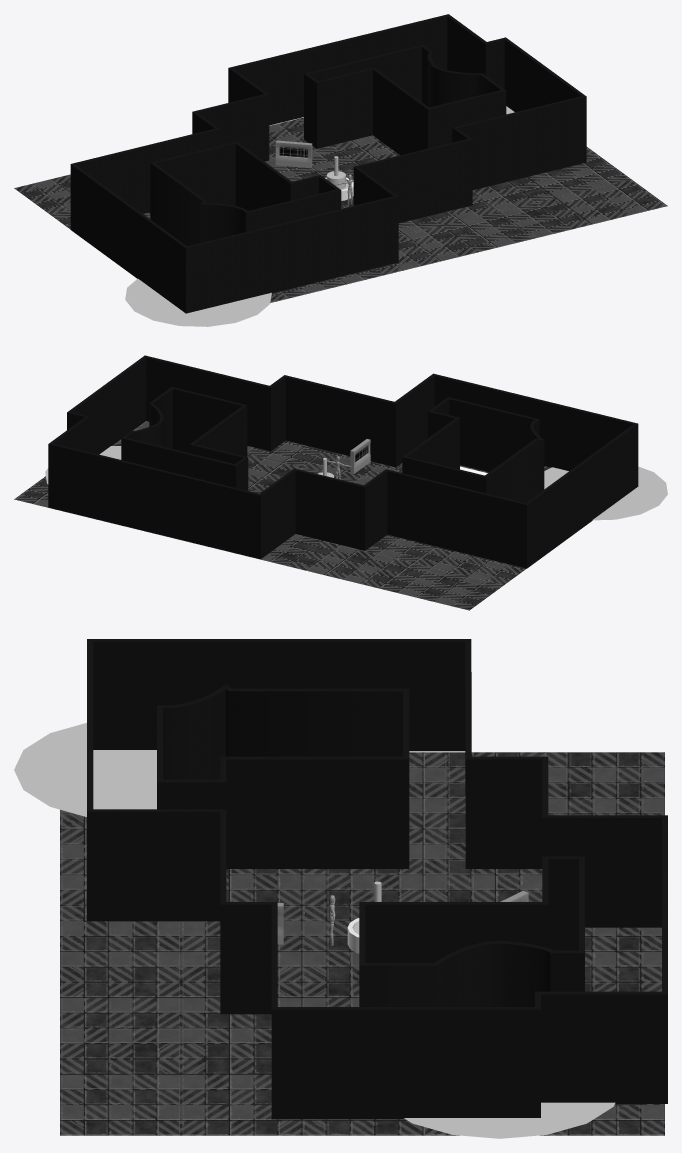
The model's file is Arena3.fbx.
3 views of the same model, one above another, from view 1: azimuth 30°, elevation 25°; view 2: azimuth 150°, elevation 25°; view 3: azimuth 270°, elevation 25° (orthographic). The views are drawn at different scales.
Visible parts, largest first — view 1: Sweep, Плоскость, Диск, Куб_1; view 2: Sweep, Плоскость, Диск, Куб; view 3: Sweep, Плоскость, Диск, Диск_1.
Part boxes in pixels (box(x1,y1,x2,y2)): Sweep: box(70, 14, 586, 313); Плоскость: box(14, 117, 667, 302); Диск: box(125, 278, 271, 326); Куб_1: box(275, 140, 312, 168); Sweep: box(48, 355, 638, 568); Плоскость: box(14, 421, 550, 610); Диск: box(544, 466, 667, 520); Куб: box(350, 439, 370, 473); Sweep: box(87, 639, 667, 1119); Плоскость: box(60, 752, 664, 1135); Диск: box(14, 723, 156, 816); Диск_1: box(404, 1102, 615, 1138).
Size of the model in its own units: 3293 by 425 by 2162.
41 materials, 41 textured.
